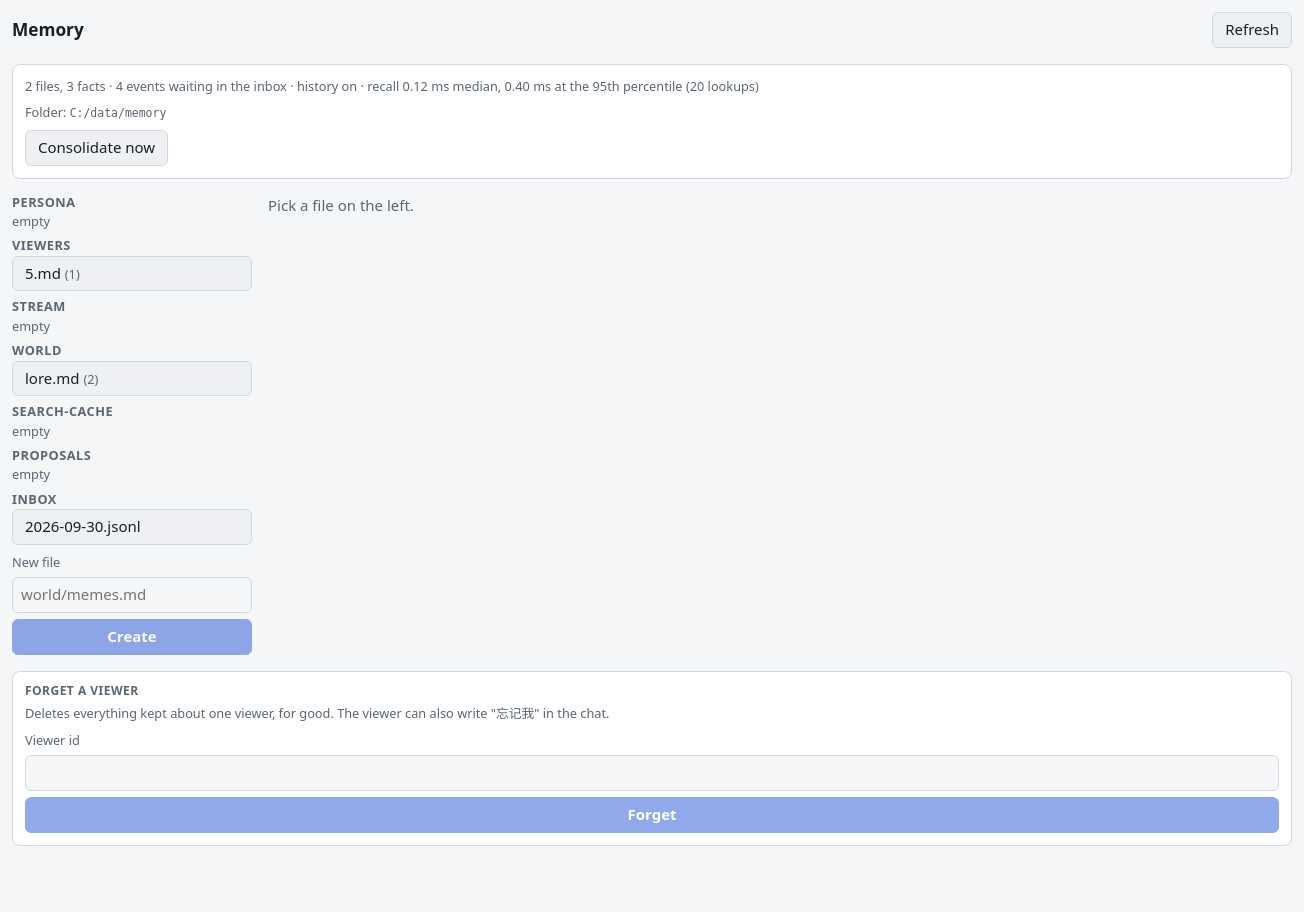
a file › shows each line with its source, its date and whether it is locked; notes are plain
Click the button "lore.md (2)". click: click(132, 378)
box: x1=12 y1=360 x2=252 y2=396
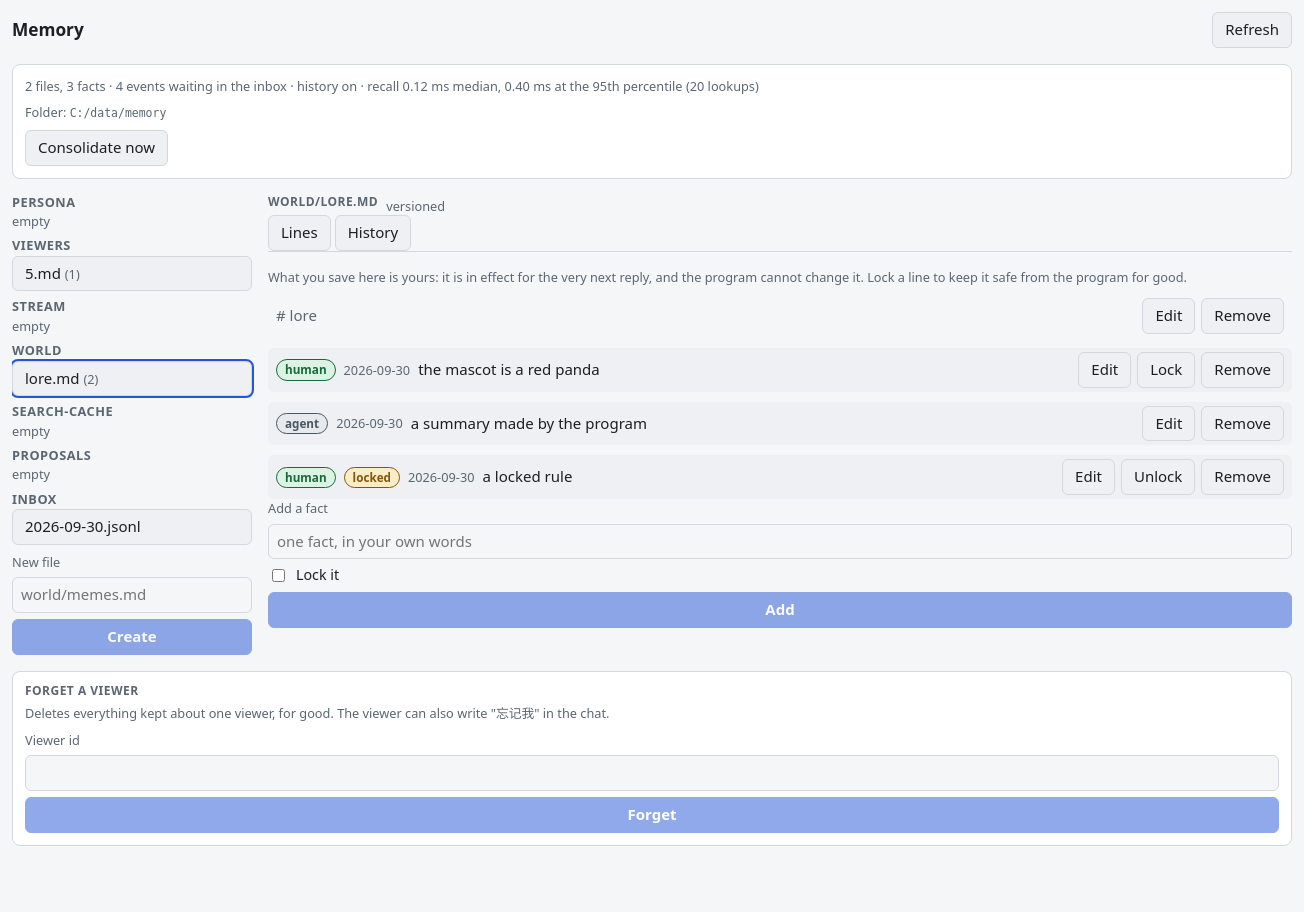
Result: the element showing "Lines History" is shown at x1=268 y1=215 x2=1292 y2=252
Result: the text "the mascot is a red panda" is shown at x1=418 y1=359 x2=600 y2=381
Result: the text "a summary made by the program" is shown at x1=411 y1=413 x2=647 y2=434
